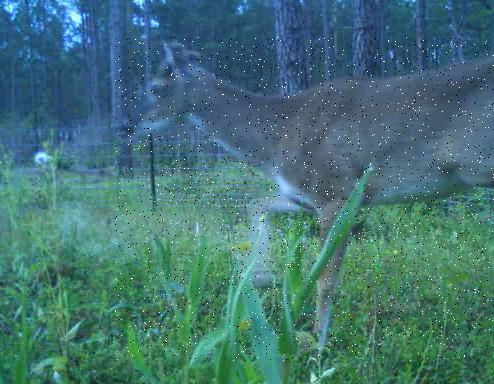Deer: (115, 36, 494, 361)
